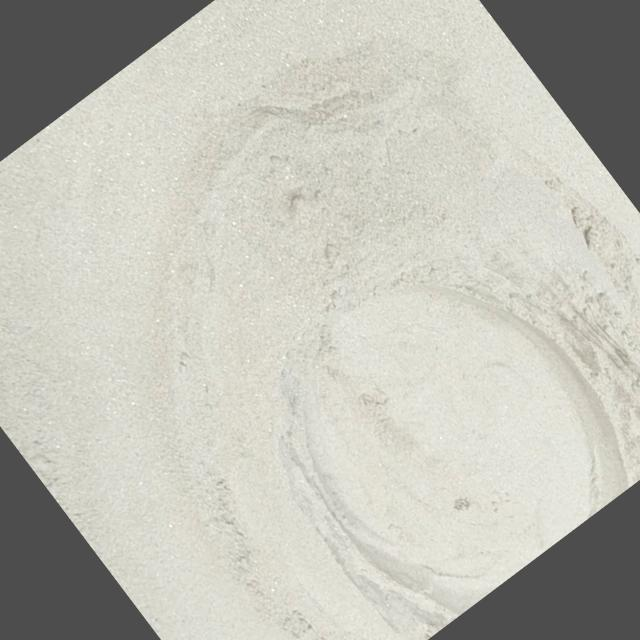C40: (283, 276, 640, 636)
